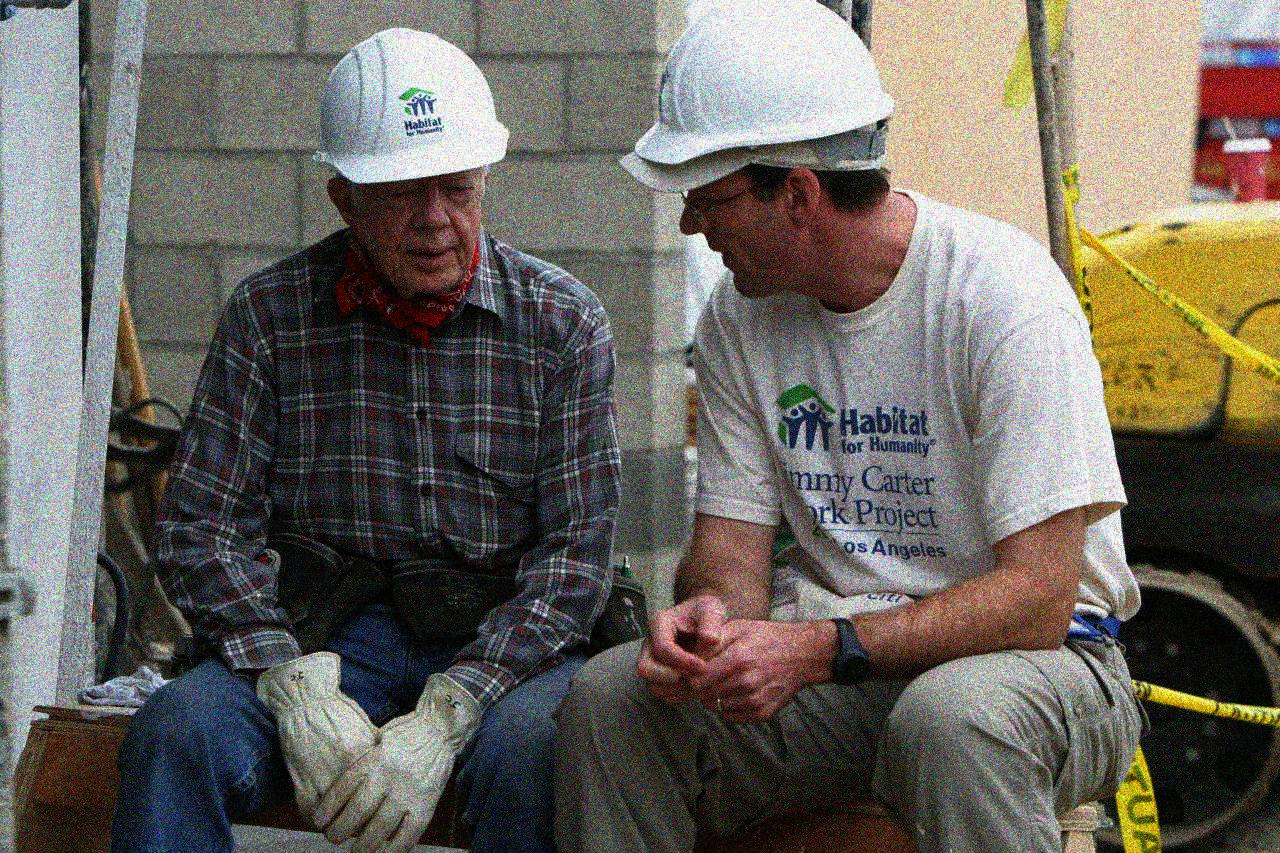helmet: (629, 1, 896, 290), (310, 25, 511, 294)
